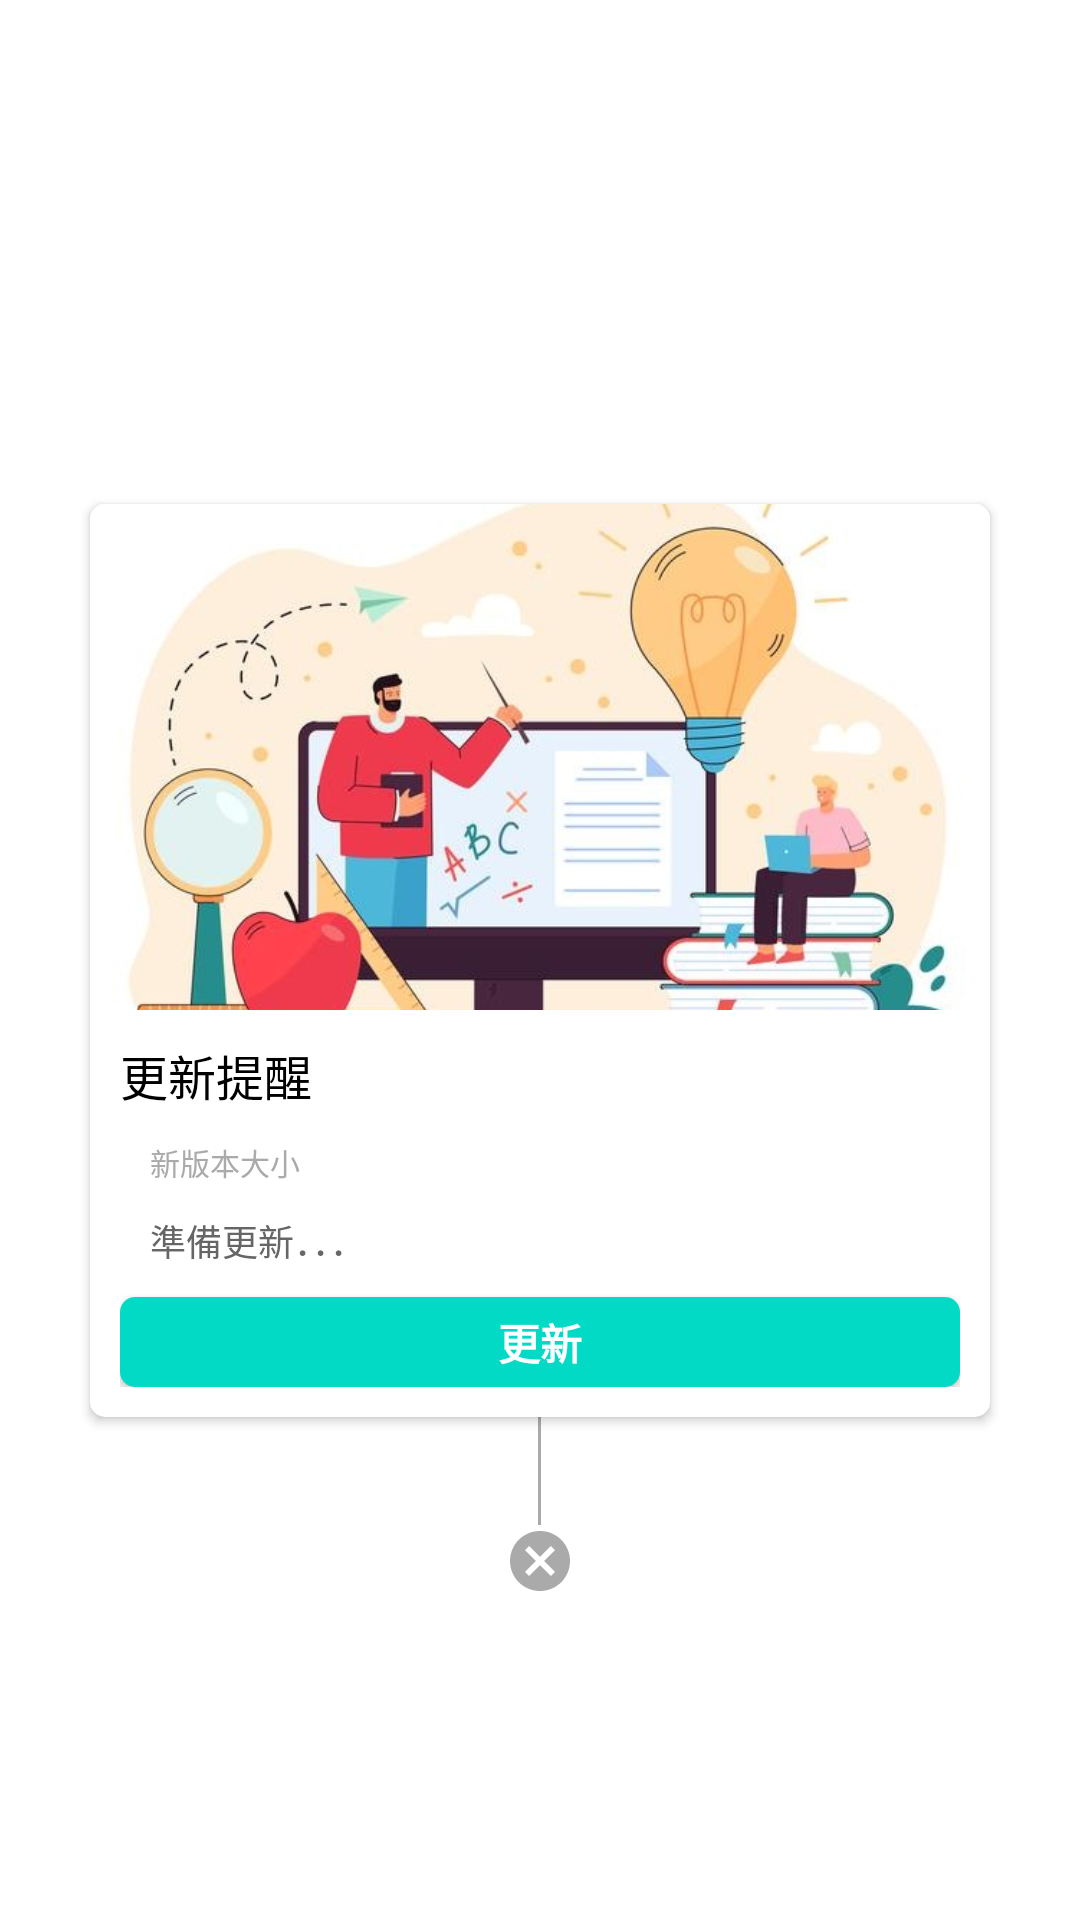

Named icons in this screenshot (1080px x 1920px) and their centers, (x=x, y=y):
cancel: (x=540, y=1561)
